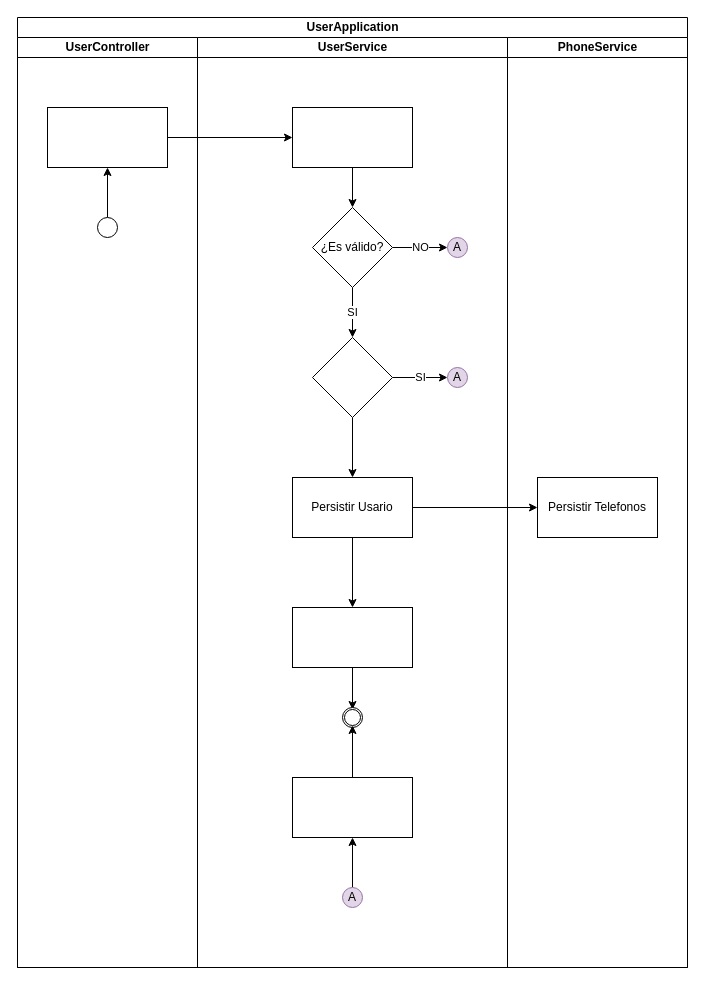
Some shapes in this 705 by 985 pixel diagram are drawn without their labels. Each missing label, with the centre of its shape:
"Consumir endpoint de creación" belongs at point 107,137.
"Retornar error encontrado" belongs at point 352,807.
"Retornar Usuario Creado" belongs at point 352,637.
"Validar cuerpo de la solicitud" belongs at point 352,137.
"¿Existe email?" belongs at point 352,377.
